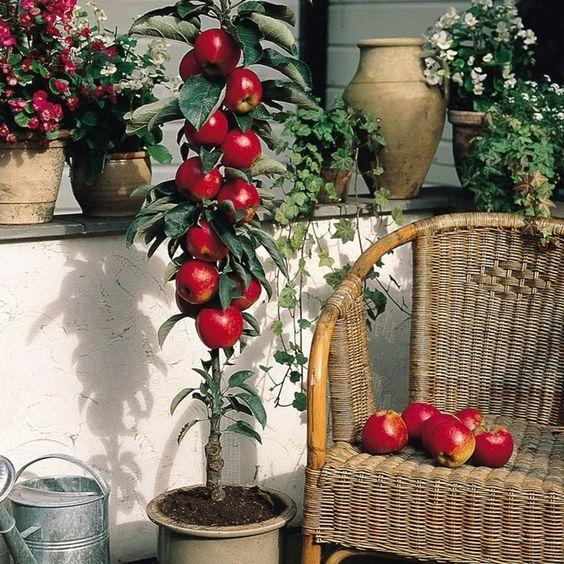apple: (419, 417, 476, 467), (358, 408, 408, 454), (195, 27, 241, 73), (178, 156, 223, 201), (197, 304, 242, 349), (185, 217, 230, 262), (174, 258, 219, 303), (217, 177, 262, 222), (217, 266, 262, 311), (183, 106, 227, 146), (472, 425, 512, 468), (219, 70, 262, 109), (223, 126, 260, 167), (399, 402, 439, 436), (178, 46, 206, 81)
